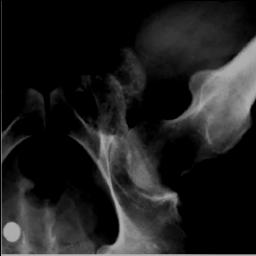cancer: (107, 116, 214, 195), (75, 45, 146, 134)
